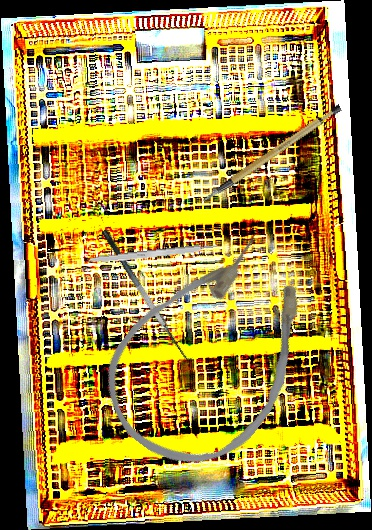Cannula: (79, 210, 349, 495)
Scalpel Handle: (189, 102, 352, 204), (83, 242, 220, 267)
Spatula Surgical: (100, 221, 199, 366)
